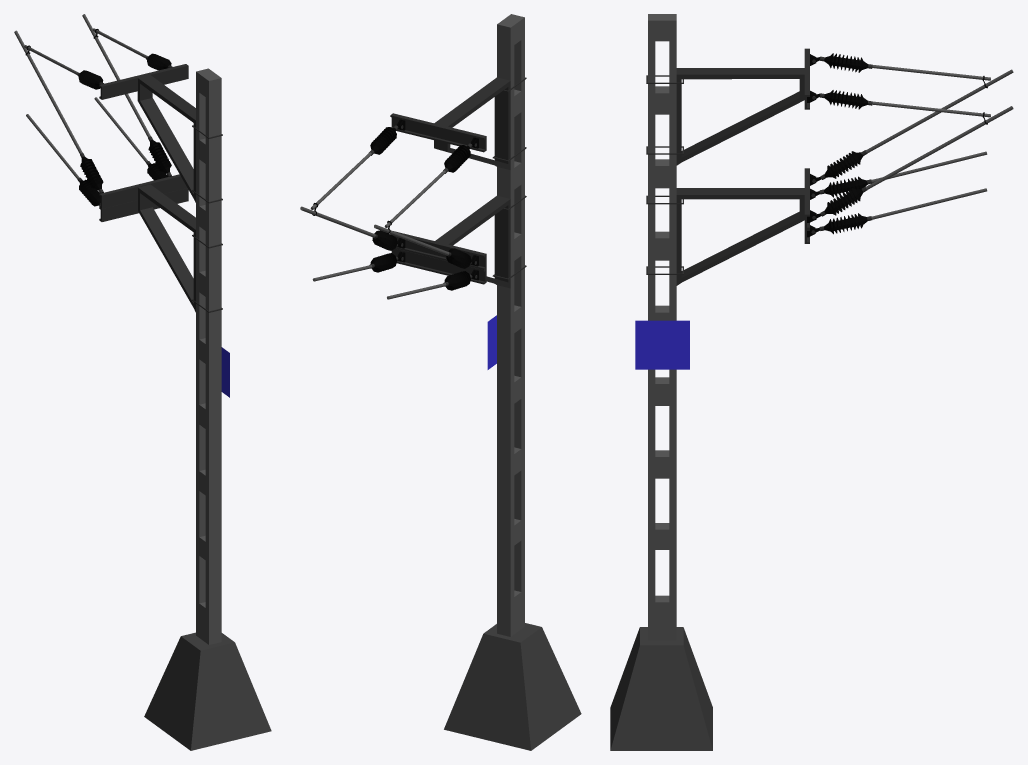
Rendered from newPole-transformed.glb.
The picture shows the model from 3 angles, left to right: view 1: azimuth 30°, elevation 25°; view 2: azimuth 150°, elevation 25°; view 3: azimuth 270°, elevation 25°; orthographic projection. The views are drawn at different scales.
Parts seen in each view (by area): view 1: Main; view 2: Main, NamePlate; view 3: Main, NamePlate.
Part boxes in pixels (bbox=[...]): Main: bbox=[14, 14, 271, 750]; Main: bbox=[300, 14, 581, 750]; NamePlate: bbox=[487, 315, 496, 369]; Main: bbox=[610, 14, 1013, 750]; NamePlate: bbox=[635, 320, 689, 369].
Bounding box in the file's own units: 0.2055 × 1.47 × 0.7536.
